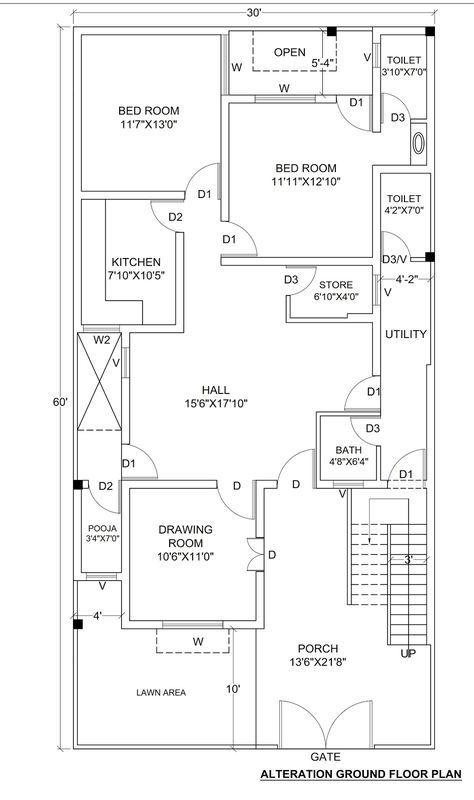Blueprint: (68, 20, 444, 756)
wall: (369, 259, 439, 755), (369, 33, 438, 278), (281, 290, 384, 379), (72, 31, 85, 484), (218, 91, 258, 224), (72, 24, 329, 38), (218, 253, 374, 268), (78, 187, 188, 205), (120, 486, 132, 632), (170, 227, 188, 318), (370, 21, 428, 47), (72, 488, 83, 622), (120, 479, 221, 491), (119, 374, 133, 446), (127, 321, 190, 336), (370, 64, 383, 136), (253, 478, 266, 542), (319, 408, 383, 420), (314, 409, 323, 492), (254, 568, 266, 624), (221, 619, 267, 631), (127, 619, 164, 631), (117, 323, 133, 349), (314, 91, 340, 105), (361, 477, 390, 489), (375, 443, 383, 482), (319, 478, 335, 490)
